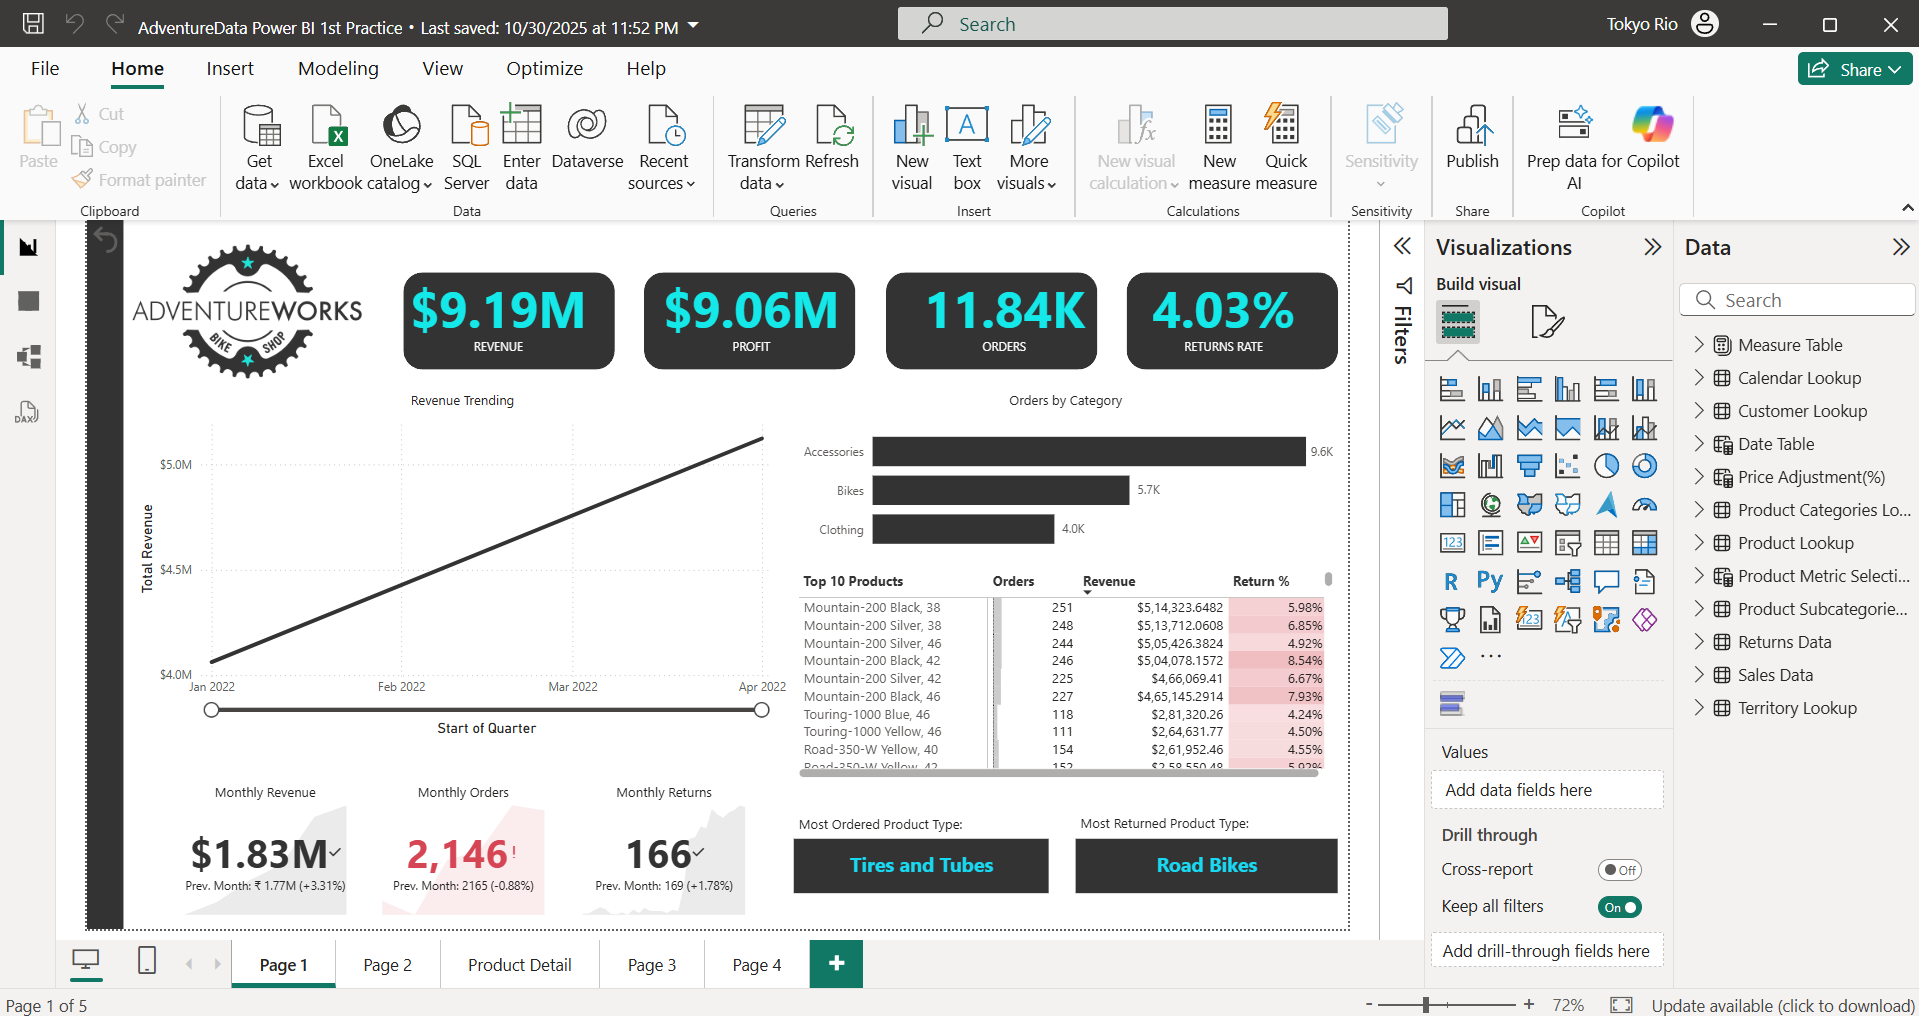

Layout of this report page (visuals, bound fields, positions):
{"tool":"powerbi","page":{"name":"Page 1","canvas":[1280,720],"ordinal":0},"visuals":[{"type":"image","title":"AW Logo","box":[15.7,12.8,296.2,160.9],"z":0},{"type":"card","fields":{"Values":["Measure Table.Total Revenue"]},"box":[269.2,15.5,296.2,160.9],"z":0,"group":"g3"},{"type":"shape","box":[320.5,52.7,215,99],"z":0,"group":"g2"},{"type":"shape","title":"Left Nav Background","box":[0,0,37,720.7],"z":1000},{"type":"card","fields":{"Values":["Measure Table.Total Profit"]},"box":[525.9,15.5,296.2,160.9],"z":1000,"group":"g3"},{"type":"shape","box":[565.5,52.7,215,99],"z":1000,"group":"g2"},{"type":"group","id":"g1","title":"KPIs","box":[269.2,15.5,1001.2,160.9],"z":2000},{"type":"card","fields":{"Values":["Measure Table.Total Orders"]},"box":[782.6,15.5,296.2,160.9],"z":2000,"group":"g3"},{"type":"group","id":"g2","title":"KPI Backgrounds","box":[320.5,52.7,949.9,99],"z":2000,"group":"g1"},{"type":"shape","box":[810.4,52.7,215,99],"z":2000,"group":"g2"},{"type":"card","fields":{"Values":["Measure Table.Return Rate"]},"box":[1039.3,15.5,230.7,160.9],"z":3000,"group":"g3"},{"type":"shape","box":[1055.4,52.7,215,99],"z":3000,"group":"g2"},{"type":"lineChart","title":"Revenue Trending","fields":{"Y":["Measure Table.Total Revenue"],"Category":["Calendar Lookup.Year","Calendar Lookup.Start of Quarter","Calendar Lookup.Start of Month"]},"box":[47,173.8,668,356.1],"z":3000},{"type":"group","id":"g3","title":"KPI Values","box":[269.2,15.5,1000.8,160.9],"z":3004,"group":"g1"},{"type":"kpi","title":"Monthly Revenue","fields":{"Indicator":["Measure Table.Total Revenue"],"TrendLine":["Calendar Lookup.Start of Month"],"Goal":["Measure Table.Previous Month Revenue"]},"box":[94,571.1,175.2,139.6],"z":4000},{"type":"kpi","title":"Monthly Returns","fields":{"TrendLine":["Calendar Lookup.Start of Month"],"Indicator":["Measure Table.Total Return"],"Goal":["Measure Table.Previous Month Returns"]},"box":[498.5,571.1,175.2,139.6],"z":5000},{"type":"kpi","title":"Monthly Orders","fields":{"TrendLine":["Calendar Lookup.Start of Month"],"Indicator":["Measure Table.Total Orders"],"Goal":["Measure Table.Previous Month Orders"]},"box":[294.8,571.1,175.2,139.6],"z":6000},{"type":"barChart","title":"Orders by Category","fields":{"Category":["Product Categories Lookup.CategoryName"],"Y":["Measure Table.Total Orders"]},"box":[717.8,173.8,552.6,178],"z":7000},{"type":"pivotTable","fields":{"Rows":["Product Lookup.ProductName"],"Values":["Measure Table.Total Orders","Measure Table.Total Revenue","Measure Table.Return Rate"]},"box":[717.8,351.8,552.6,219.3],"z":8000},{"type":"card","fields":{"Values":["Min(Product Subcategories Lookup.SubcategoryName)"]},"box":[717.8,628.1,259.2,55.5],"z":9000},{"type":"textbox","box":[717.8,599.6,188,28.5],"z":10000},{"type":"card","fields":{"Values":["Min(Product Subcategories Lookup.SubcategoryName)"]},"box":[1004.1,628.1,266.3,55.5],"z":11000},{"type":"textbox","box":[1004.1,598.2,199.4,29.9],"z":12000},{"type":"actionButton","box":[0,0,37,39.9],"z":13000}]}

Visuals, with their boxes on the page's 1280x720 design canvas (x1, y1, x2, y2). These are canvas units, not pixel positions in the 1919x1016 screenshot, which may show the page scaled, cropped or inside an application window:
"AW Logo" image: region(16, 13, 312, 174)
card - Measure Table.Total Revenue: region(269, 16, 565, 176)
shape: region(320, 53, 536, 152)
"Left Nav Background" shape: region(0, 0, 37, 721)
card - Measure Table.Total Profit: region(526, 16, 822, 176)
shape: region(566, 53, 780, 152)
"KPIs" group: region(269, 16, 1270, 176)
card - Measure Table.Total Orders: region(783, 16, 1079, 176)
"KPI Backgrounds" group: region(320, 53, 1270, 152)
shape: region(810, 53, 1025, 152)
card - Measure Table.Return Rate: region(1039, 16, 1270, 176)
shape: region(1055, 53, 1270, 152)
"Revenue Trending" lineChart: region(47, 174, 715, 530)
"KPI Values" group: region(269, 16, 1270, 176)
"Monthly Revenue" kpi: region(94, 571, 269, 711)
"Monthly Returns" kpi: region(498, 571, 674, 711)
"Monthly Orders" kpi: region(295, 571, 470, 711)
"Orders by Category" barChart: region(718, 174, 1270, 352)
pivotTable - Product Lookup.ProductName x Measure Table.Total Orders: region(718, 352, 1270, 571)
card - Min(Product Subcategories Lookup.SubcategoryName): region(718, 628, 977, 684)
textbox: region(718, 600, 906, 628)
card - Min(Product Subcategories Lookup.SubcategoryName): region(1004, 628, 1270, 684)
textbox: region(1004, 598, 1204, 628)
actionButton: region(0, 0, 37, 40)
